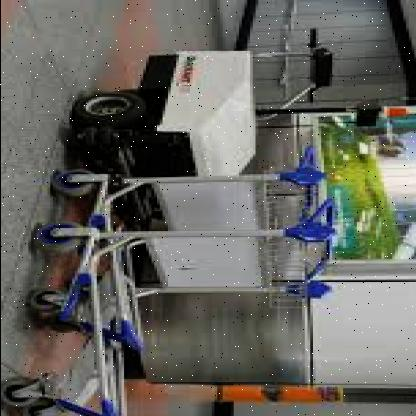airport-trolley: (0, 204, 345, 416), (46, 146, 326, 226)
